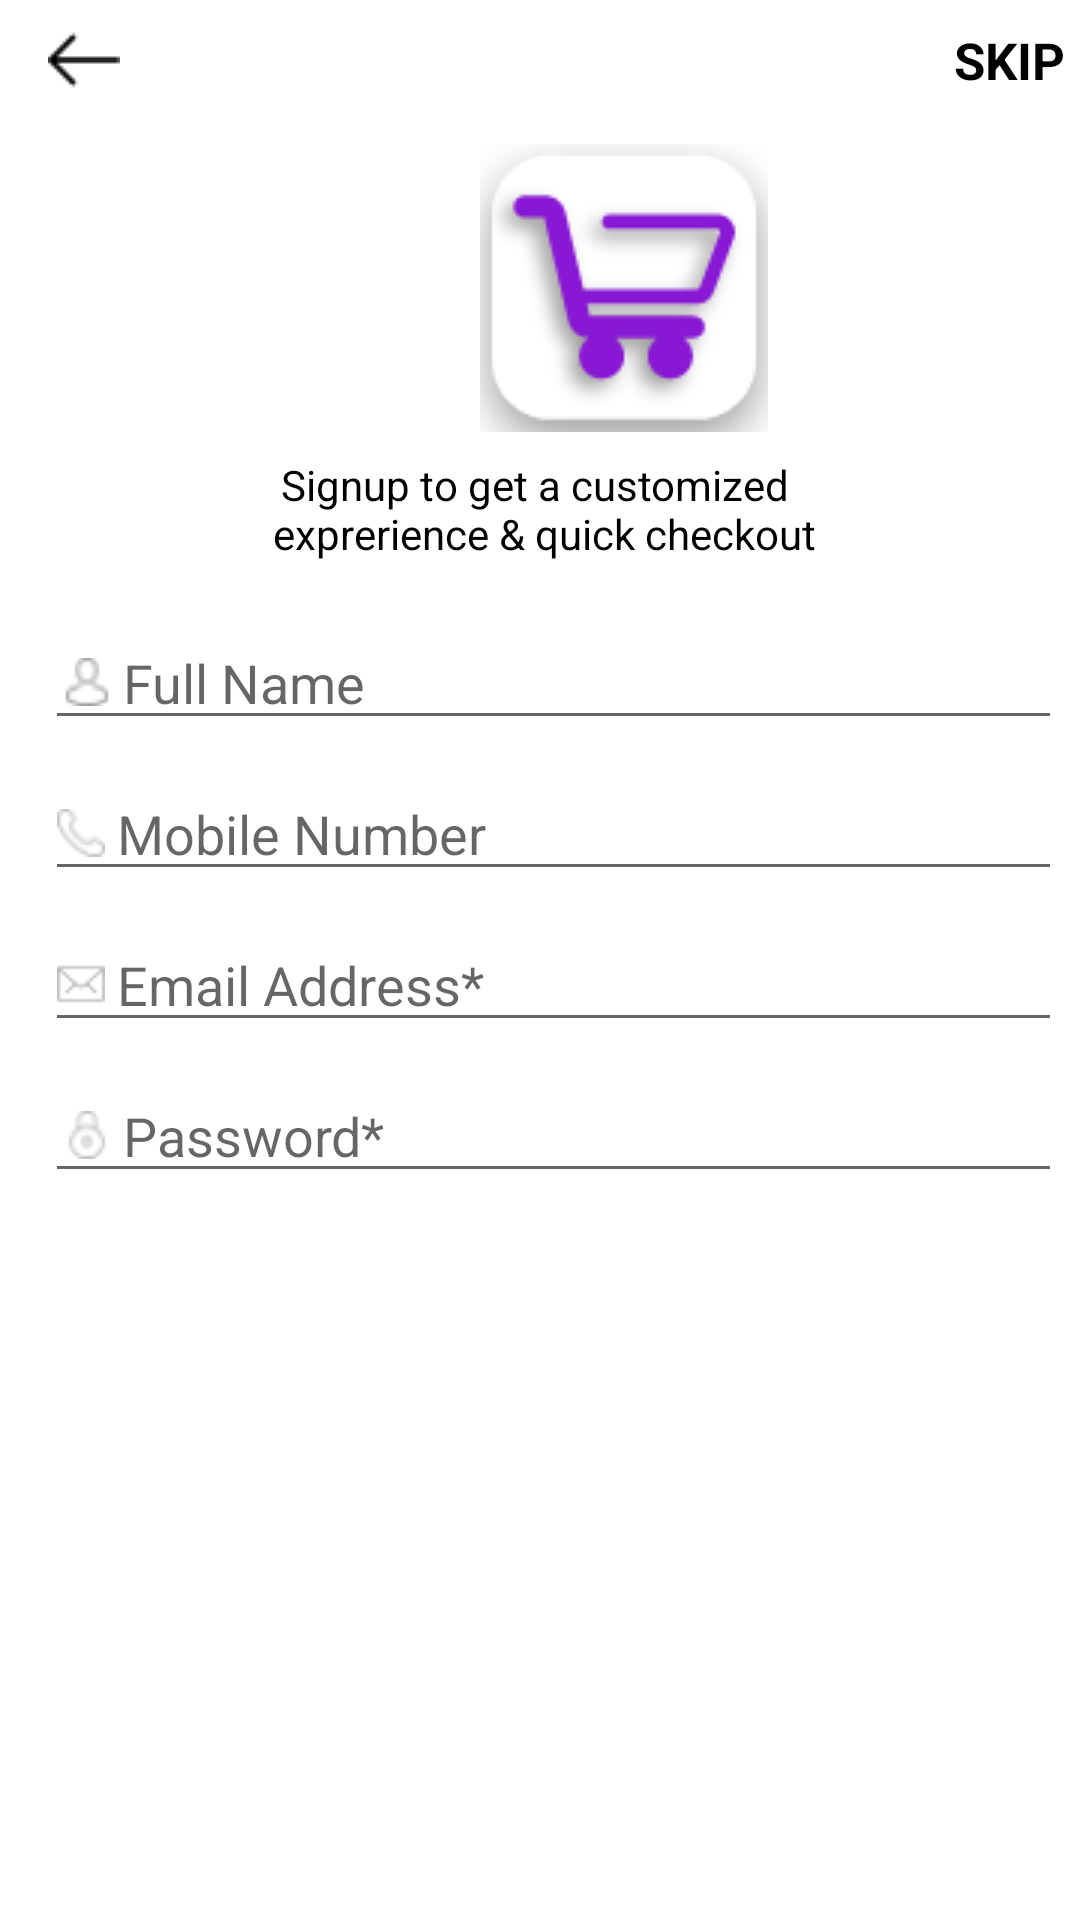

Where icons sit on this 1080px x 1920px app screen, as Rect(x1, y1, x2, y2):
back: Rect(48, 32, 120, 88)
cart: Rect(480, 191, 768, 432)
